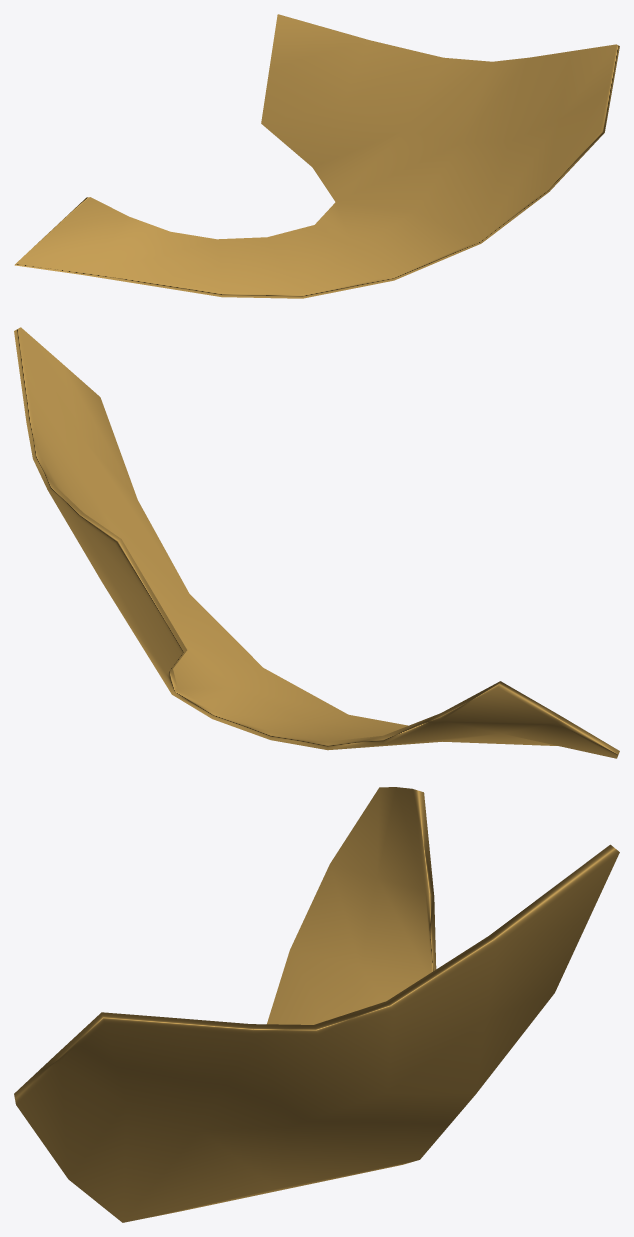
The picture shows the model from 3 angles, top to bottom: view 1: azimuth 30°, elevation 25°; view 2: azimuth 150°, elevation 25°; view 3: azimuth 270°, elevation 25°; orthographic projection. The views are drawn at different scales.
Parts seen in each view (by area): view 1: 右侧尺侧副韧带; view 2: 右侧尺侧副韧带; view 3: 右侧尺侧副韧带.
Boxes of the visible parts, x1,y1,x2,y2 form: 右侧尺侧副韧带: [14, 14, 619, 298]; 右侧尺侧副韧带: [14, 327, 619, 758]; 右侧尺侧副韧带: [14, 787, 619, 1222].
Bounding box in the file's own units: 0.0685 × 0.0257 × 0.0347.
